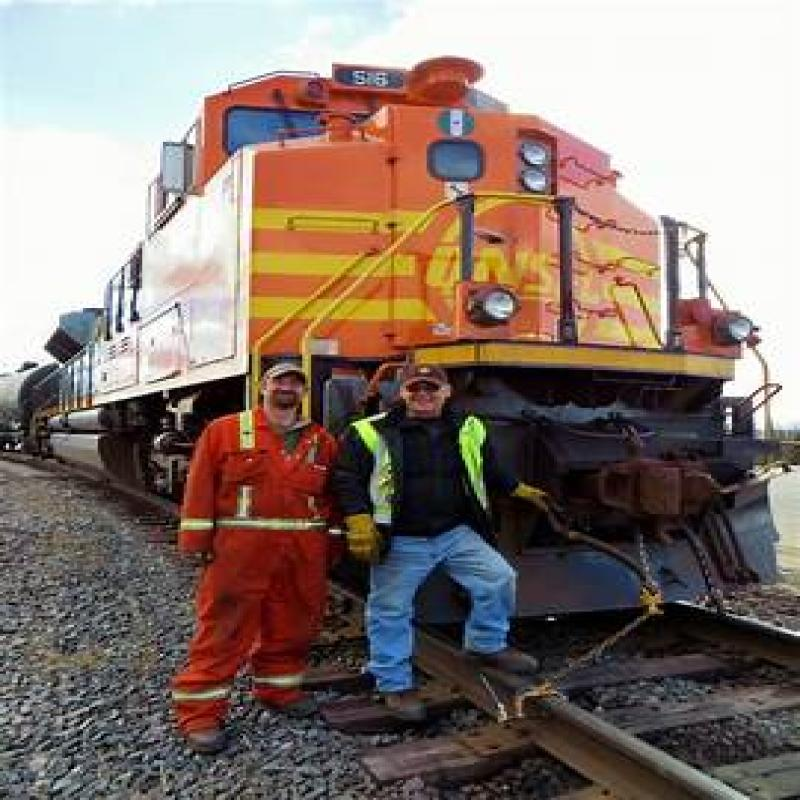train: (111, 76, 774, 575)
